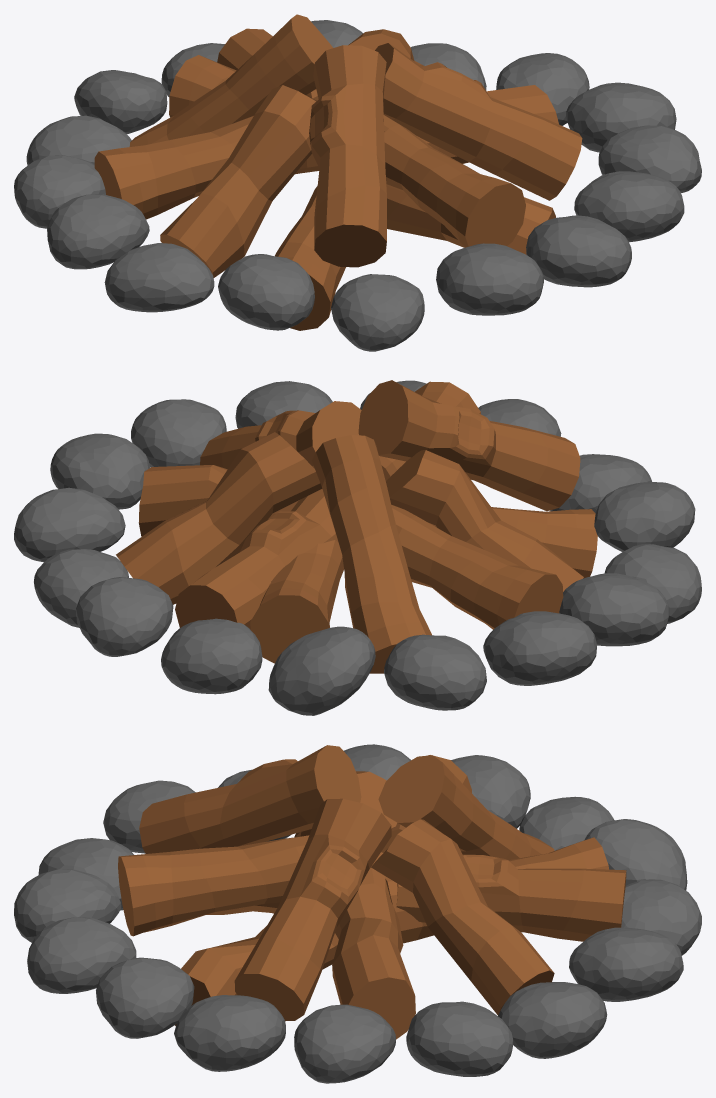
The model's file is Bonfire_roundRocks.fbx.
The picture shows the model from 3 angles, top to bottom: view 1: azimuth 30°, elevation 25°; view 2: azimuth 150°, elevation 25°; view 3: azimuth 270°, elevation 25°; orthographic projection. The views are drawn at different scales.
Visible parts, largest first — view 1: Rocks, Icosphere.005; view 2: Rocks, Icosphere.005; view 3: Rocks, Icosphere.005.
Part boxes in pixels (x1,y1,x2,y2): Rocks: (94,14,582,330); Icosphere.005: (14,20,701,351); Rocks: (116,380,597,673); Icosphere.005: (14,380,701,715); Rocks: (118,745,626,1039); Icosphere.005: (14,744,701,1083).
Bounding box in the file's own units: 0.9435 × 0.8945 × 0.3266.
